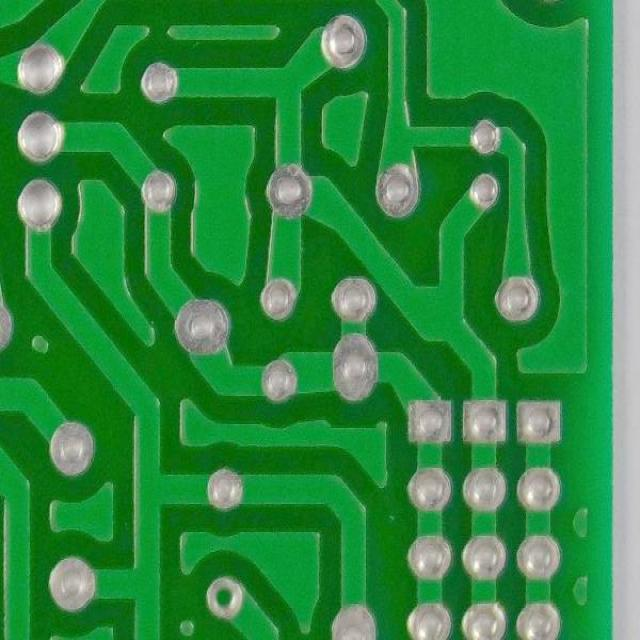missing hole: (200, 575, 247, 624)
